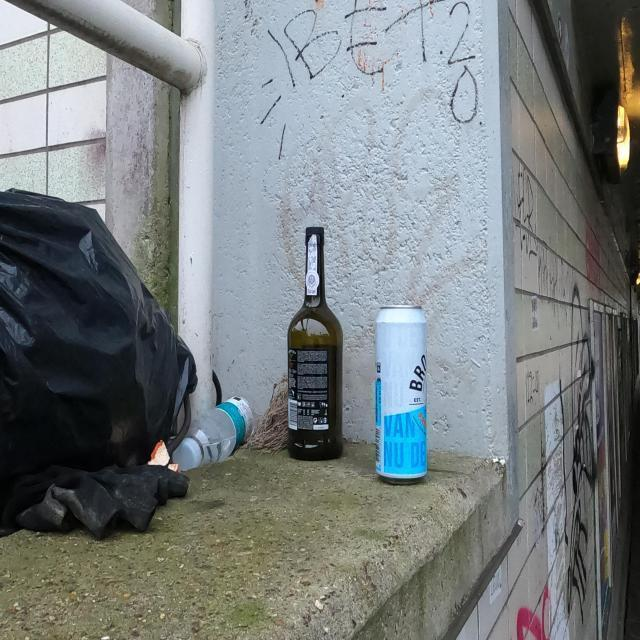Can-Metal: (373, 302, 429, 488)
Plastic: (146, 438, 180, 476)
